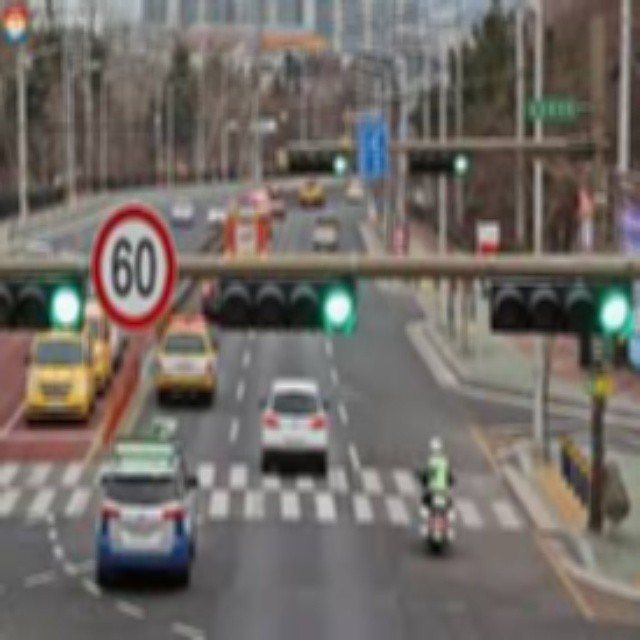green_light: (594, 283, 634, 340), (321, 288, 353, 330), (52, 285, 82, 326), (452, 153, 467, 172), (333, 154, 346, 172)
